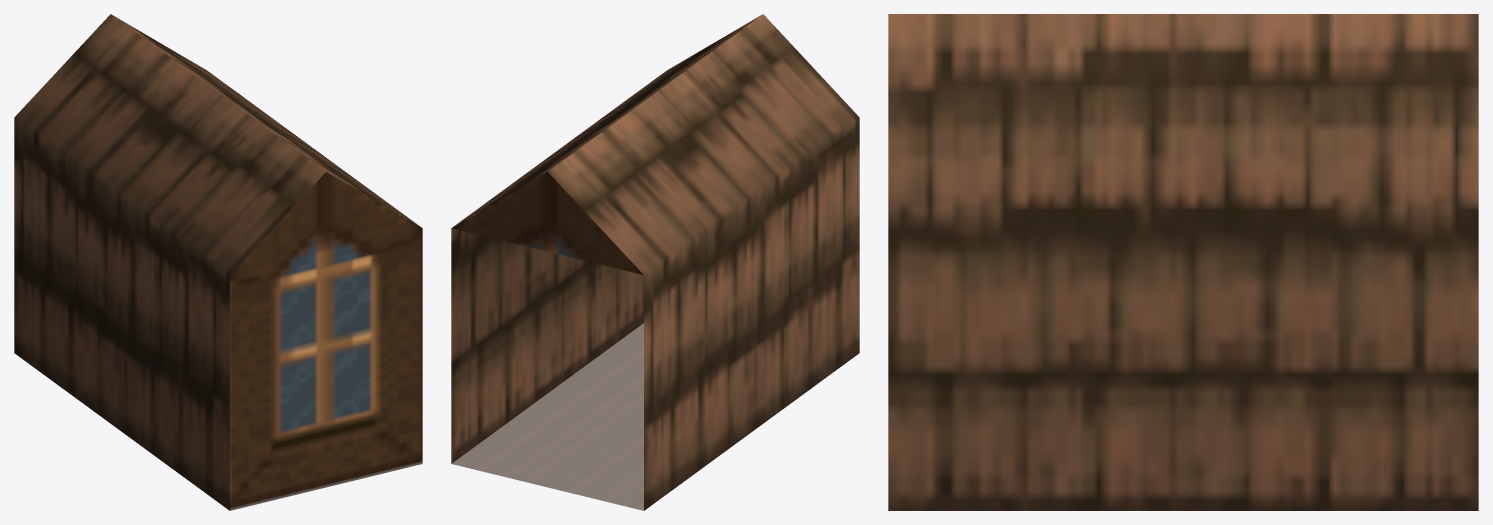
File: lookout_window_01.fbx
3 views of the same model, side by side, from view 1: azimuth 30°, elevation 25°; view 2: azimuth 150°, elevation 25°; view 3: azimuth 270°, elevation 25° (orthographic). The views are drawn at different scales.
Parts seen in each view (by area): view 1: lookout_window_01; view 2: lookout_window_01; view 3: lookout_window_01.
Part boxes in pixels (bbox=[...]): lookout_window_01: bbox=[14, 14, 422, 510]; lookout_window_01: bbox=[451, 14, 859, 510]; lookout_window_01: bbox=[888, 14, 1478, 510].
Size of the model in its own units: 25.1 by 39.3 by 48.63.
